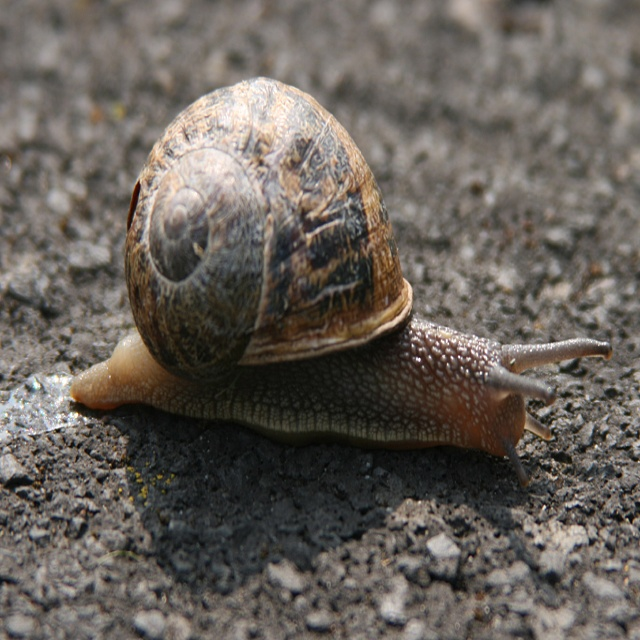Snail: (67, 73, 616, 489)
